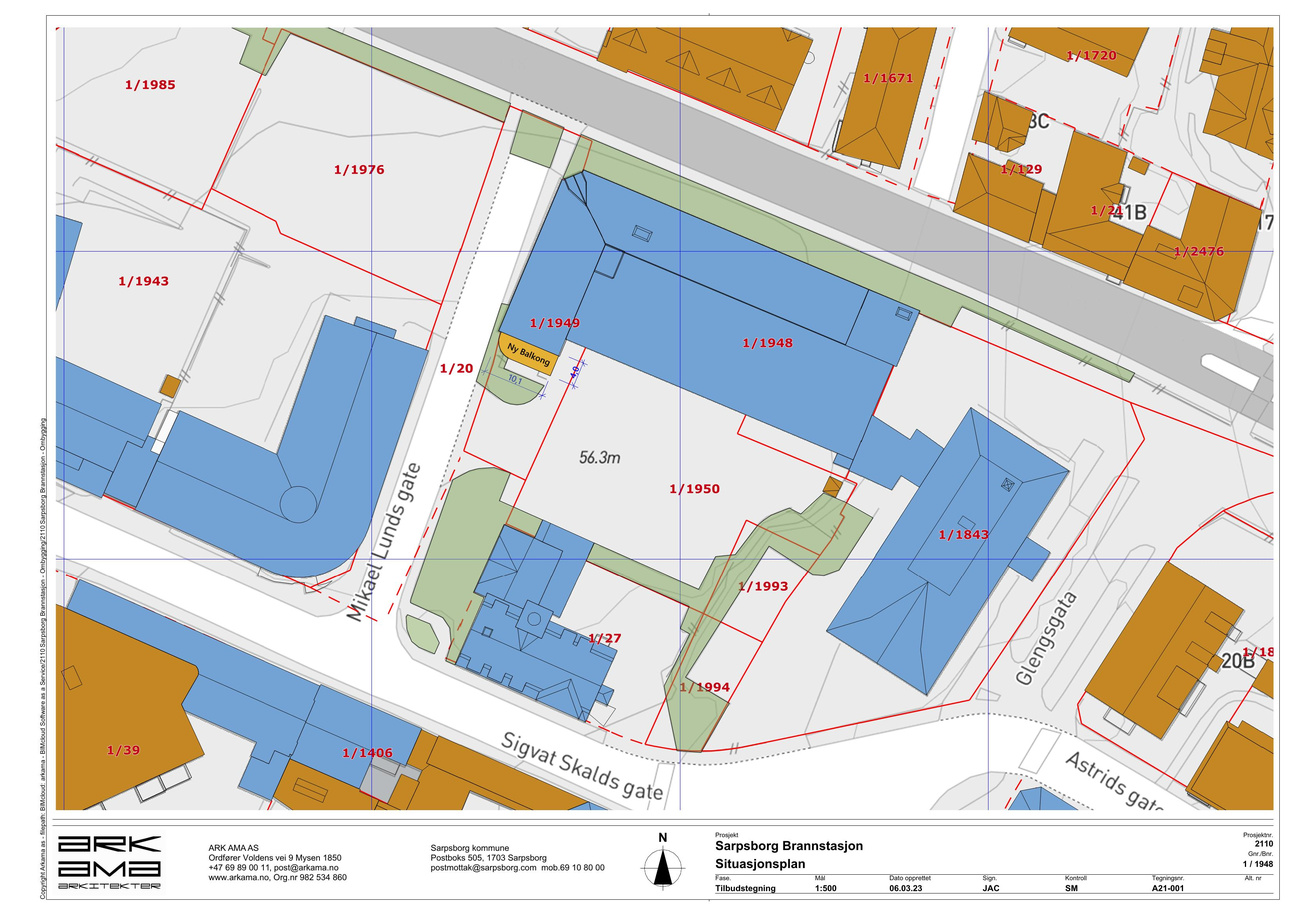situasjonskart: (52, 23, 1277, 813)
